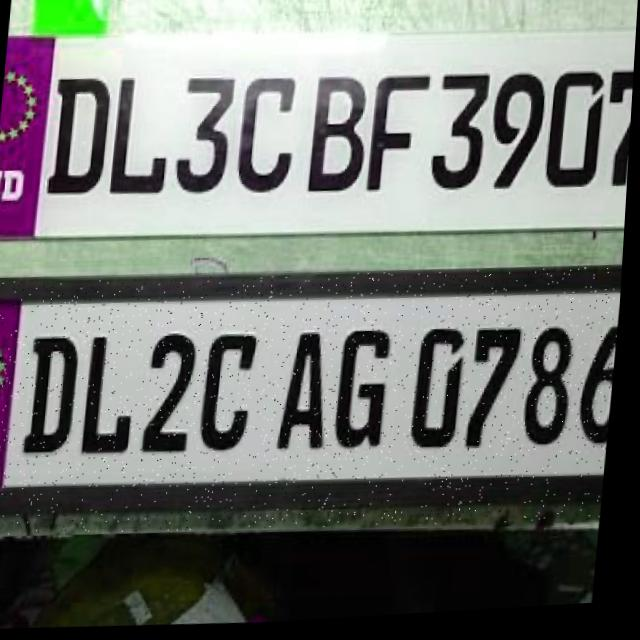license_plate: (0, 252, 627, 557)
